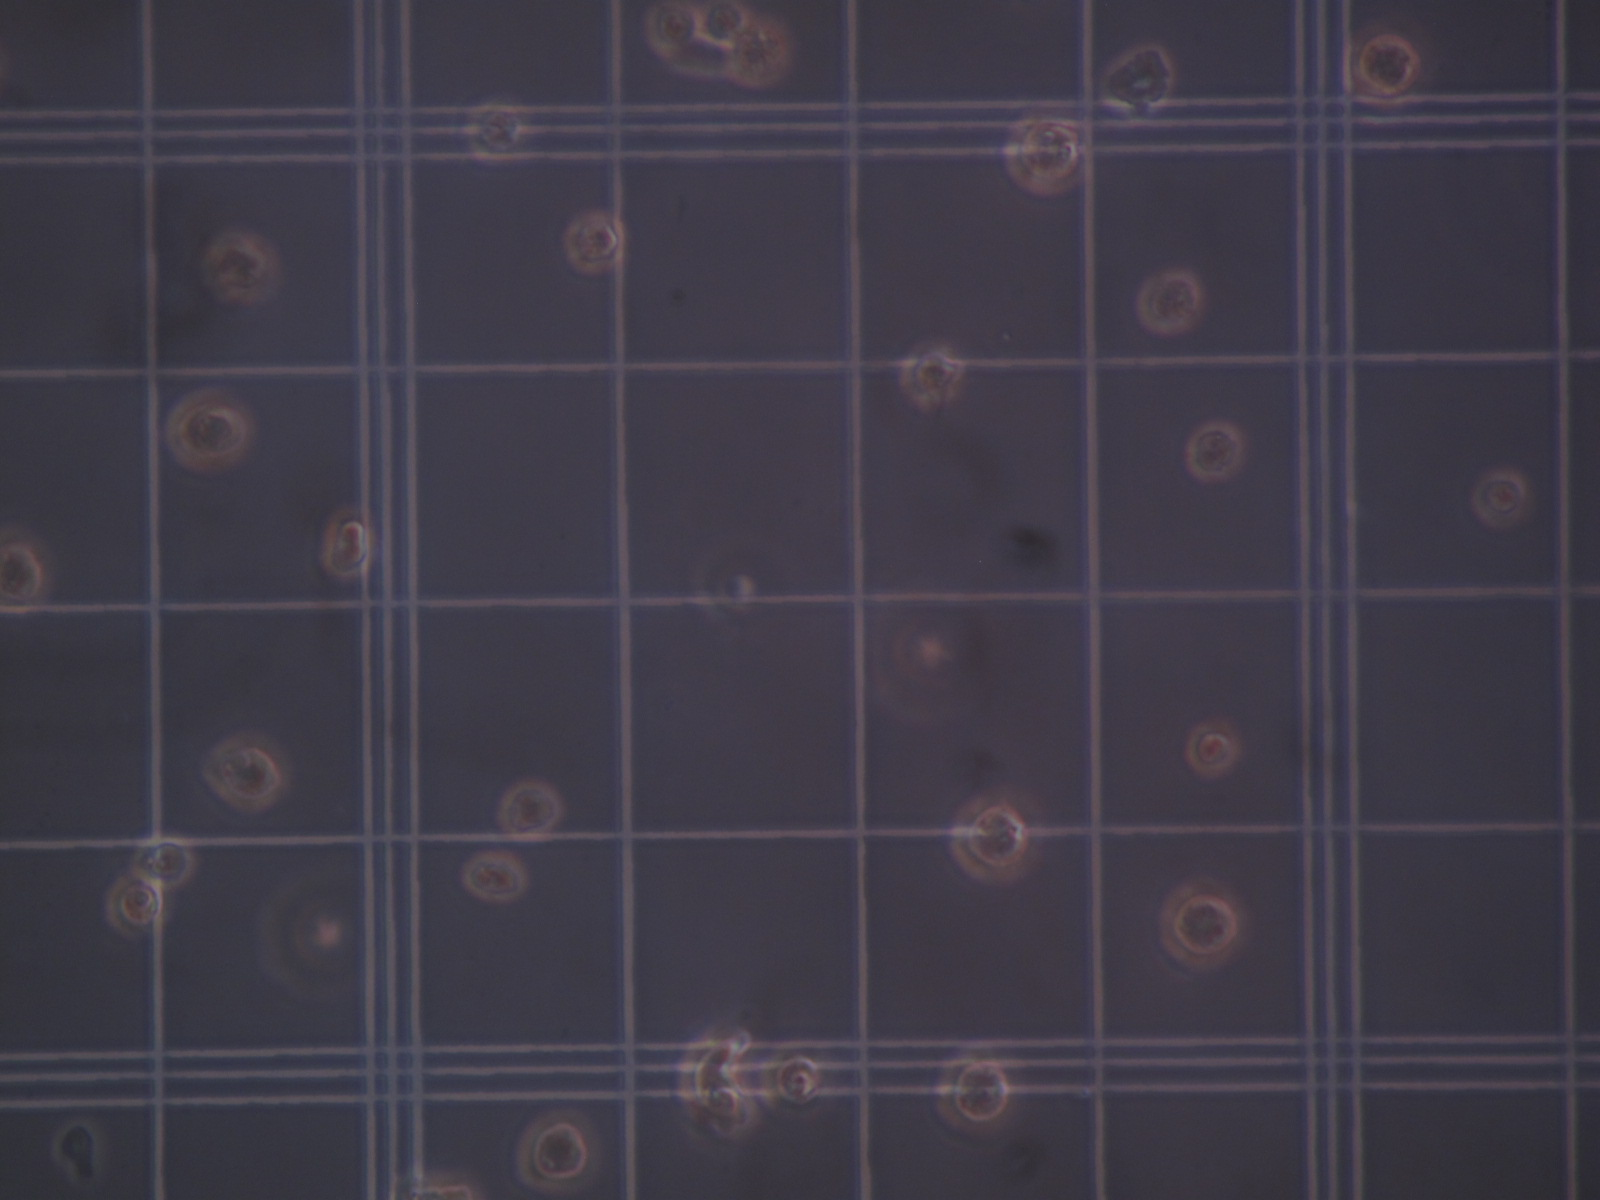hemo: (680, 1018, 762, 1138), (951, 793, 1044, 886), (1159, 880, 1251, 972), (165, 389, 260, 478), (510, 1107, 605, 1192), (939, 1049, 1020, 1139), (203, 730, 289, 814), (200, 224, 283, 306), (1007, 112, 1083, 195), (1344, 33, 1422, 107), (1, 524, 54, 619), (724, 21, 792, 89), (496, 776, 566, 843), (765, 1045, 828, 1117), (558, 211, 626, 276), (106, 875, 168, 944), (464, 101, 525, 170), (1104, 49, 1175, 108), (1140, 268, 1202, 335), (901, 345, 963, 408), (323, 505, 375, 579), (130, 836, 197, 889), (1186, 422, 1246, 480), (461, 848, 527, 901), (1186, 718, 1238, 778), (1475, 466, 1524, 529), (648, 3, 703, 58), (700, 1, 750, 45)
